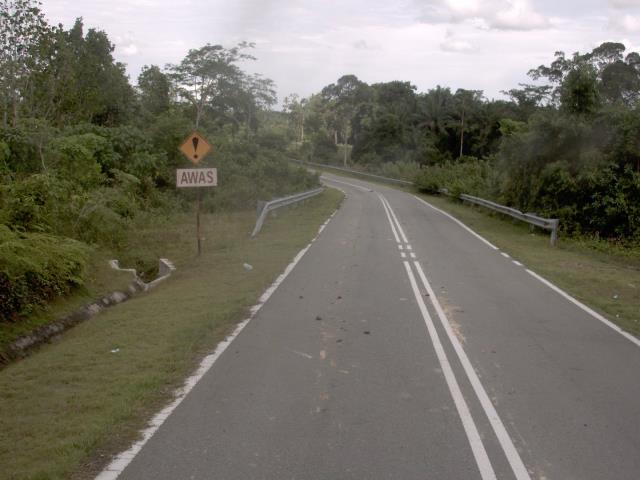traffic_sign: (170, 123, 218, 168)
